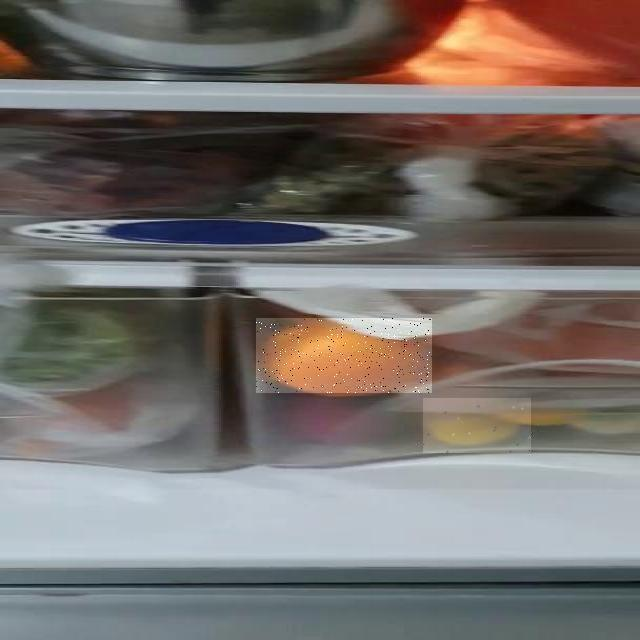Lemon: (423, 398, 531, 453)
Orange: (256, 318, 432, 393)
